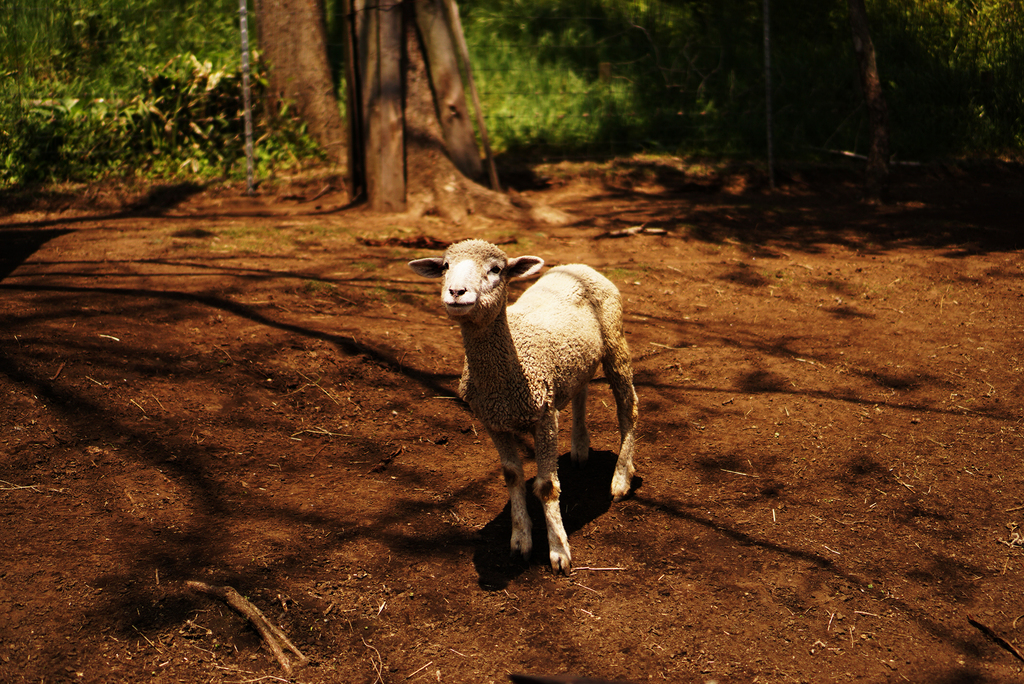sheep: (408, 238, 637, 577)
